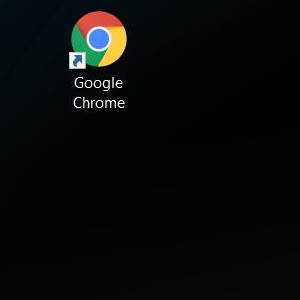chrome: (67, 11, 127, 70)
